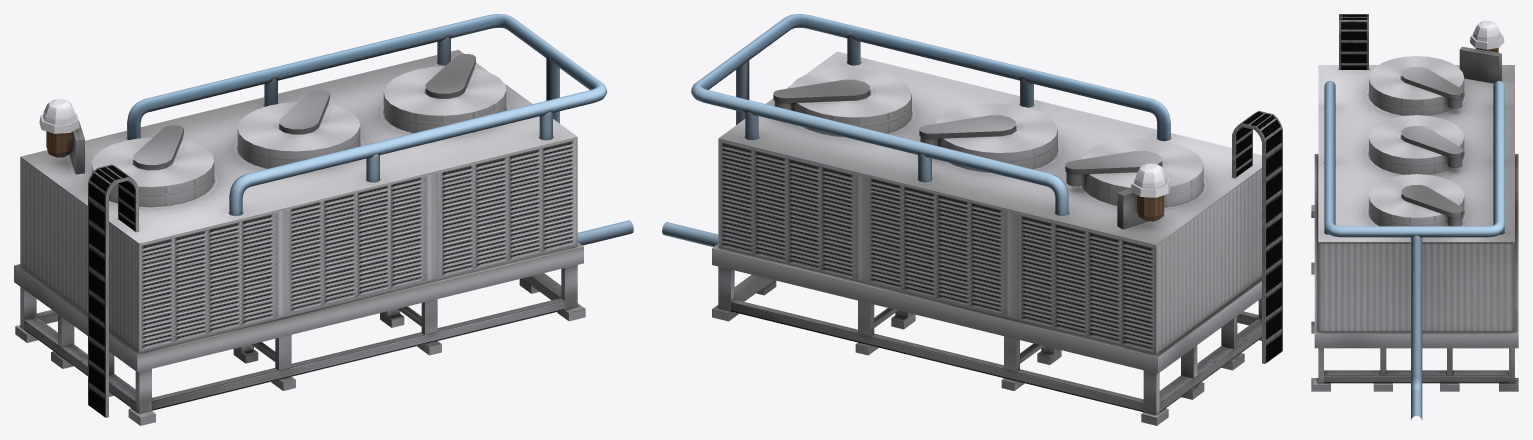
File: CoolingTower02.gltf
The picture shows the model from 3 angles, left to right: view 1: azimuth 30°, elevation 25°; view 2: azimuth 150°, elevation 25°; view 3: azimuth 270°, elevation 25°; orthographic projection. The views are drawn at different scales.
Parts seen in each view (by area): view 1: CT31__1__CT31, CT31_ladder_A; view 2: CT31__1__CT31, CT31_ladder_A; view 3: CT31__1__CT31, CT31_ladder_A.
Boxes of the visible parts, x1,y1,x2,y2 form: CT31__1__CT31: (14, 14, 633, 425); CT31_ladder_A: (88, 164, 138, 417); CT31__1__CT31: (662, 14, 1261, 425); CT31_ladder_A: (1232, 111, 1282, 363); CT31__1__CT31: (1311, 21, 1518, 420); CT31_ladder_A: (1339, 14, 1368, 69).
Bounding box in the file's own units: 95.31 × 38.22 × 36.18.
Materials: 2 (2 with a texture image).
